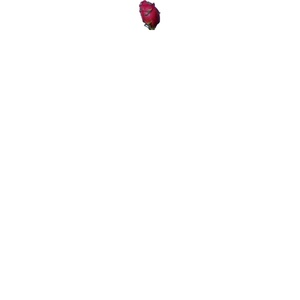pitaia: (140, 1, 161, 30)
